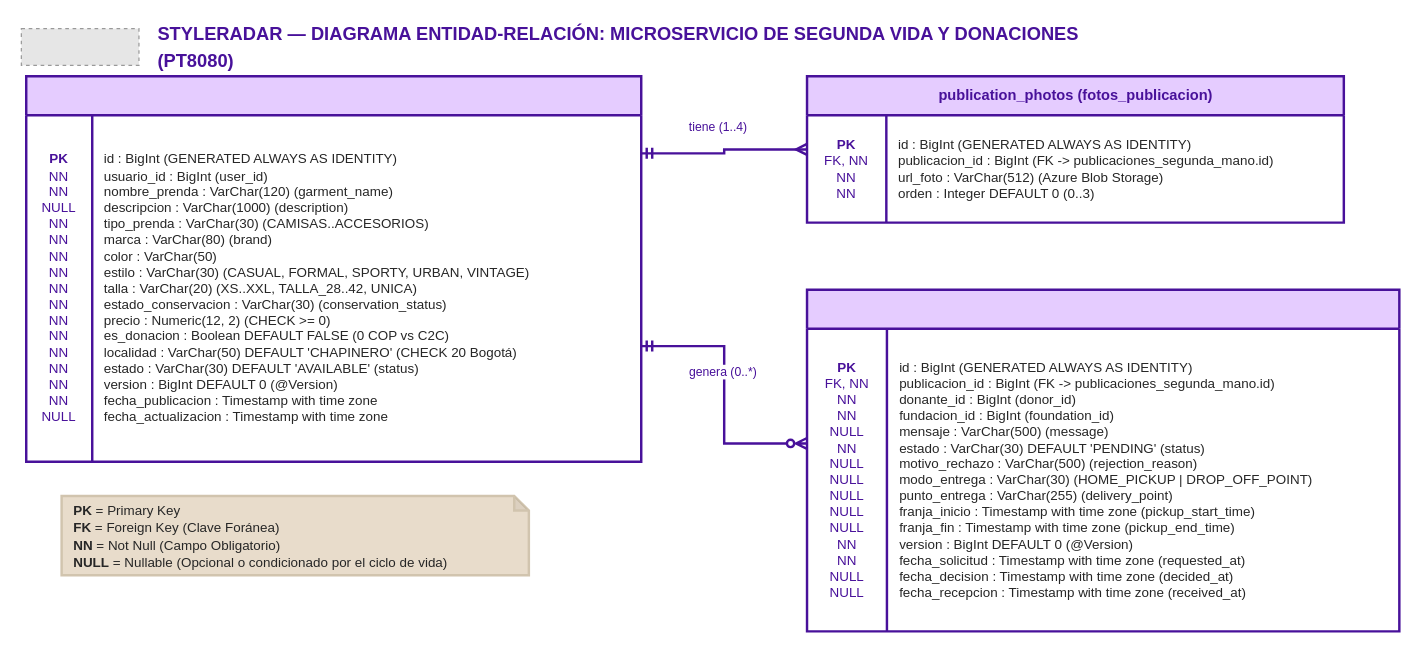
This 1421x654 diagram has some shape labels left out. Grey dashed boxes stand in for pictures. Here are the shapes that lost their labels. From the top down, the box of each, then its label:
(24, 74, 642, 462): second_hand_publications (publicaciones_segunda_mano)
(805, 288, 1400, 632): donation_requests (solicitudes_donacion)
